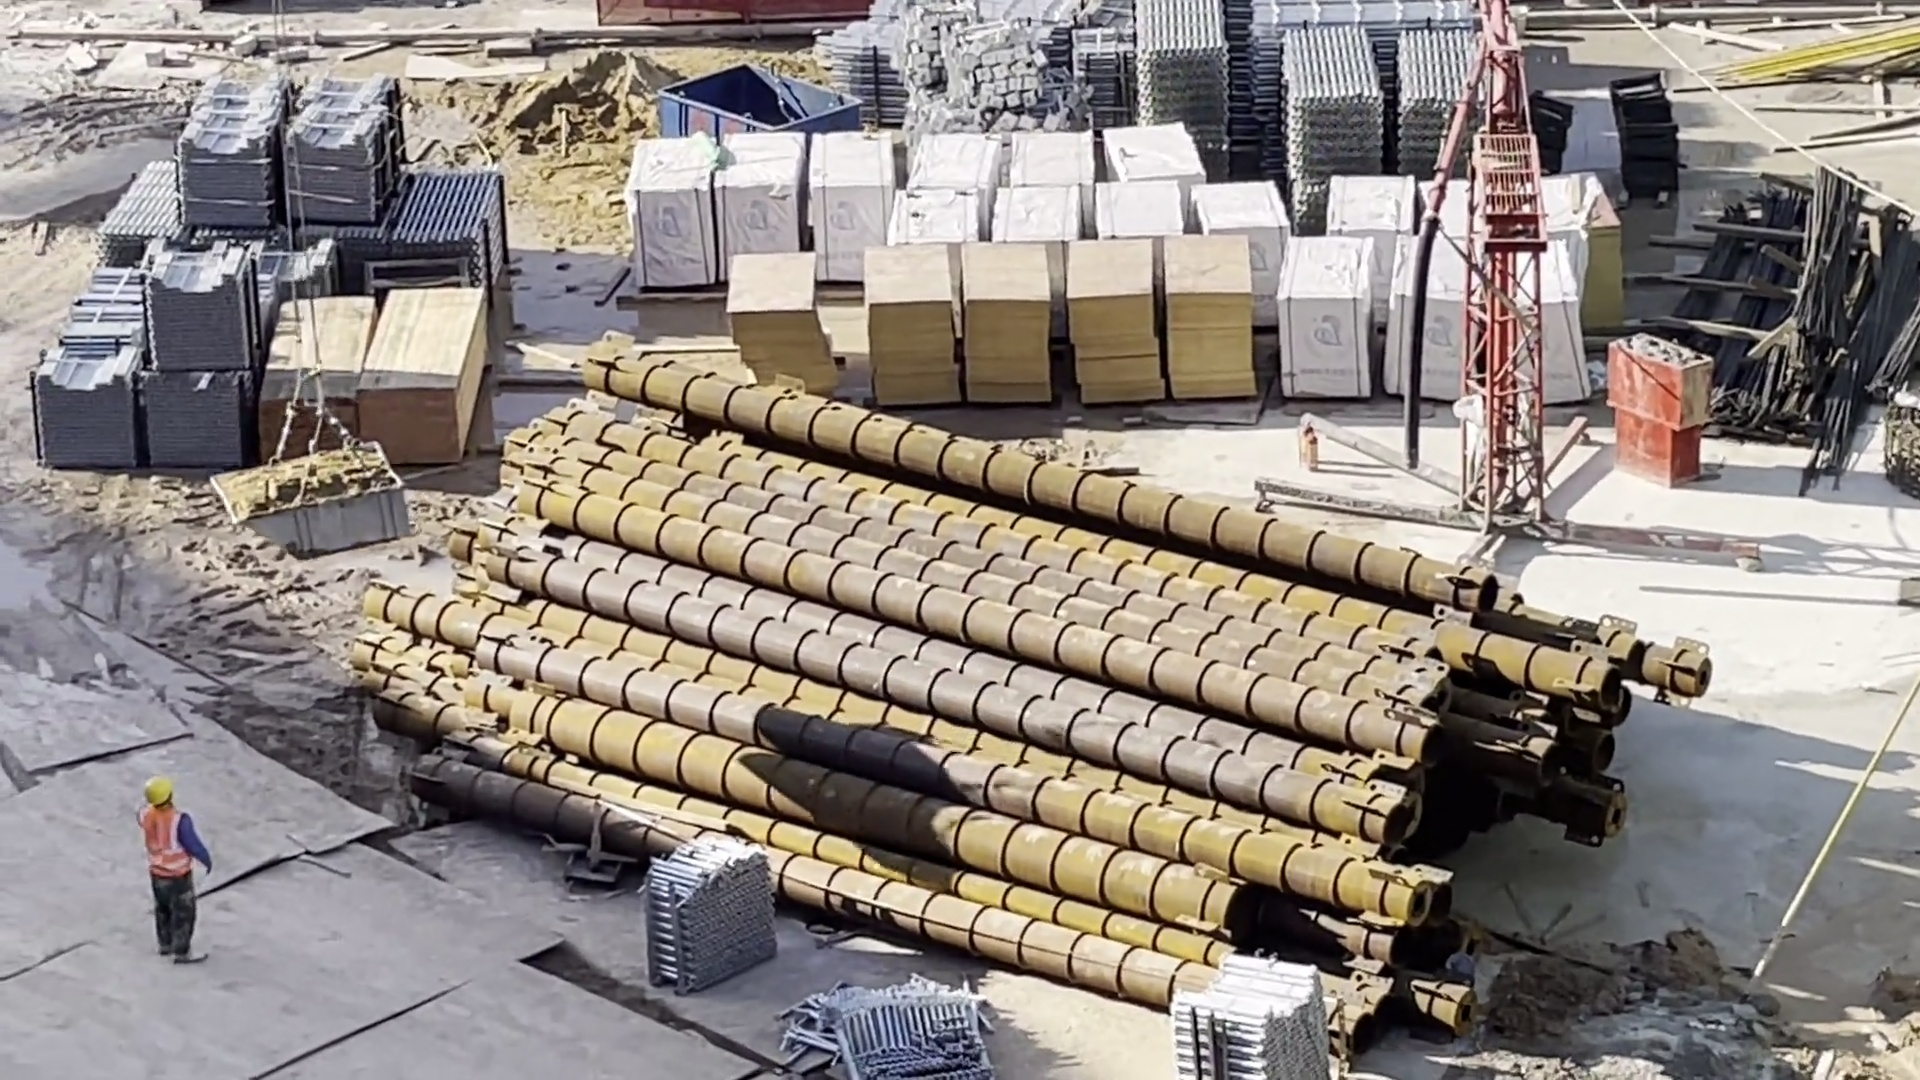board: (956, 243, 1056, 413), (869, 256, 972, 420), (372, 290, 466, 463), (1173, 245, 1273, 409), (727, 249, 823, 407), (1069, 238, 1156, 403)
helmet: (141, 773, 183, 819)
hopper: (216, 468, 415, 559), (665, 73, 852, 141)
person: (133, 772, 215, 965)
rebar: (1806, 249, 1898, 445), (1705, 204, 1782, 385), (1777, 185, 1849, 338), (1647, 217, 1732, 340), (1870, 296, 1920, 384)
scaffold: (1161, 955, 1351, 1080), (809, 978, 981, 1080), (634, 841, 760, 976), (1137, 5, 1264, 120), (1412, 56, 1512, 176), (1281, 52, 1371, 168), (415, 181, 502, 269), (97, 169, 170, 256), (1263, 1, 1484, 27), (1065, 37, 1125, 104)
vest: (139, 816, 193, 885)
wood: (253, 305, 363, 453)
